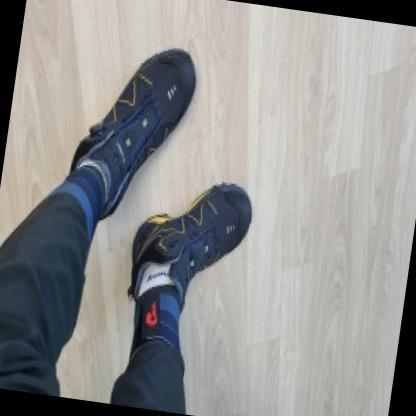safety-shoe: (68, 14, 214, 200), (118, 176, 269, 309)
